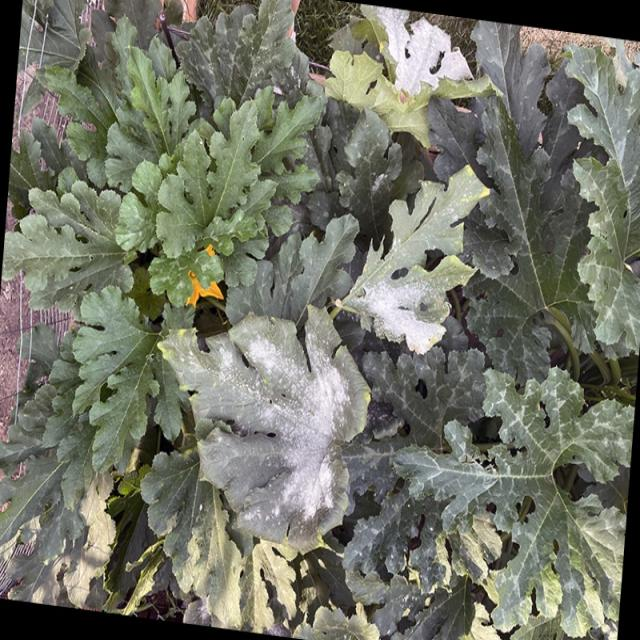Powdery Mildew: (157, 304, 372, 554), (358, 9, 491, 136), (347, 243, 478, 371)
